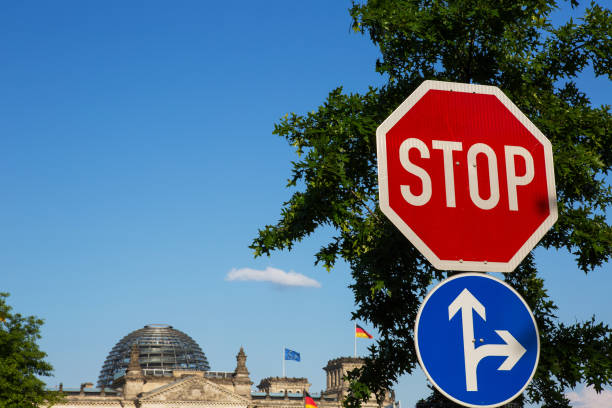ileri_veya_saga: (412, 272, 544, 407)
